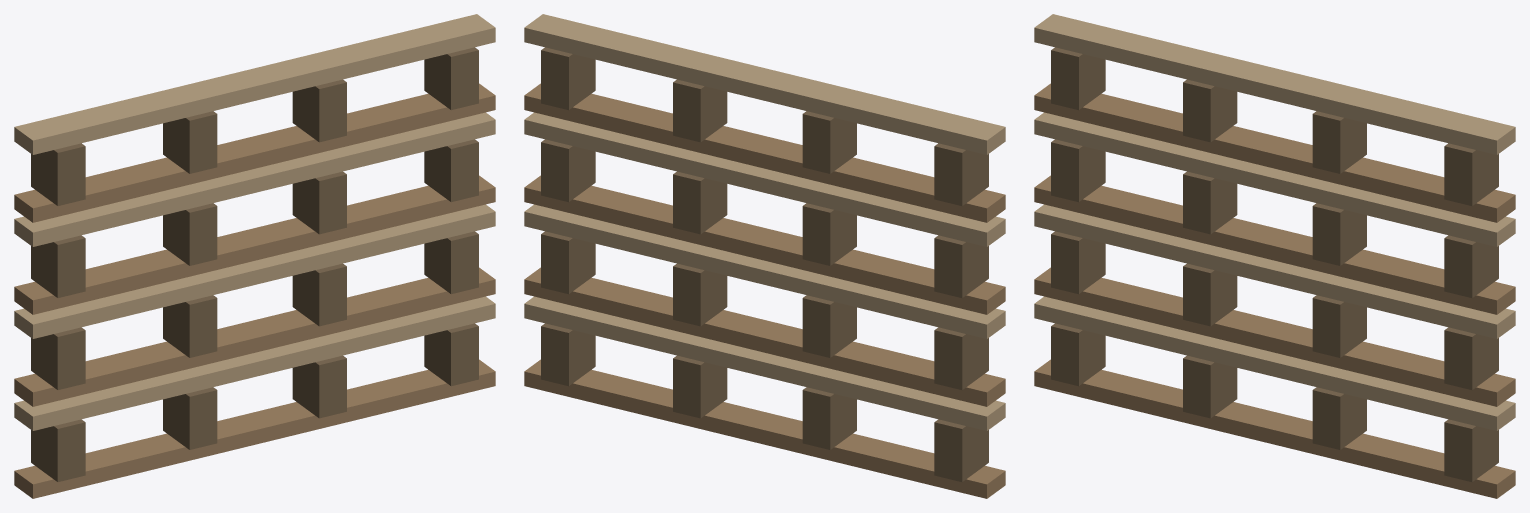
File: env_shanty_pallet_wall.glb
The picture shows the model from 3 angles, left to right: view 1: azimuth 30°, elevation 25°; view 2: azimuth 150°, elevation 25°; view 3: azimuth 330°, elevation 25°; orthographic projection.
Parts seen in each view (by area): view 1: env_shanty_pallet_wall; view 2: env_shanty_pallet_wall; view 3: env_shanty_pallet_wall.
Part boxes in pixels (x1,y1,x2,y2): env_shanty_pallet_wall: [14, 14, 495, 498]; env_shanty_pallet_wall: [524, 14, 1005, 498]; env_shanty_pallet_wall: [1034, 14, 1515, 498].
Bounding box in the file's own units: 2 × 1.48 × 0.2.
